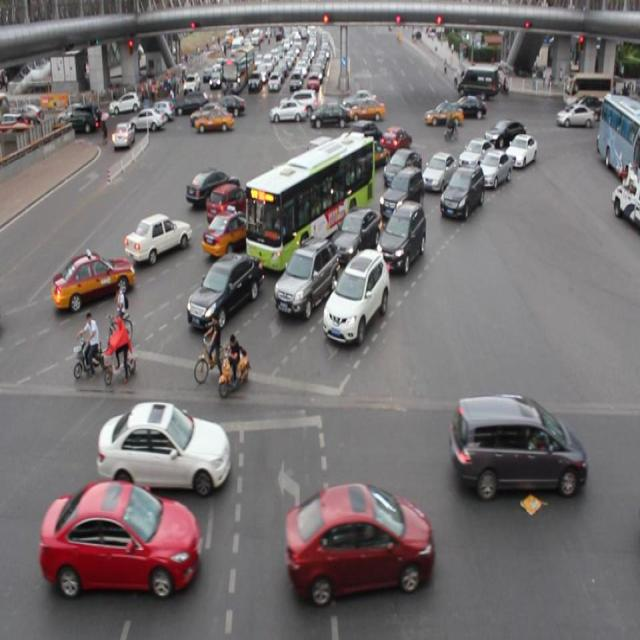car: (41, 482, 200, 592), (286, 482, 432, 599), (99, 400, 229, 495), (324, 247, 388, 343), (186, 252, 262, 329), (50, 253, 133, 312), (275, 238, 340, 310), (379, 201, 426, 268), (125, 214, 191, 261), (330, 208, 380, 264), (202, 209, 256, 257), (378, 164, 424, 219), (440, 163, 482, 217), (187, 168, 238, 210), (259, 164, 309, 206), (207, 184, 254, 224), (382, 148, 421, 194), (322, 151, 364, 192), (421, 150, 458, 193), (457, 135, 493, 173), (486, 118, 524, 153), (346, 117, 381, 154), (353, 134, 389, 168), (504, 132, 536, 170), (477, 148, 508, 186), (378, 125, 411, 157)
truck: (449, 393, 585, 495), (302, 137, 345, 178)
van: (245, 136, 374, 270)
